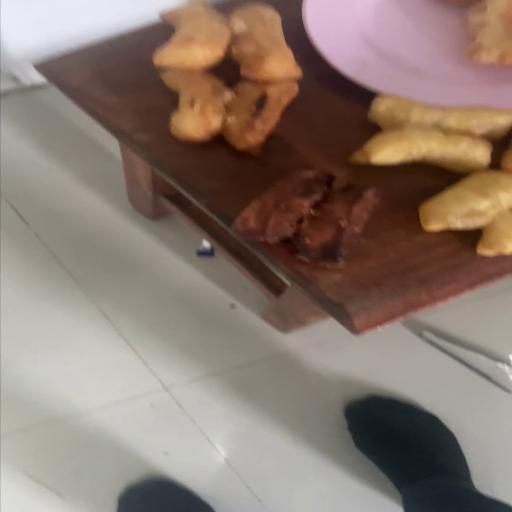street_golden_good: (347, 95, 512, 240), (346, 94, 512, 174)
